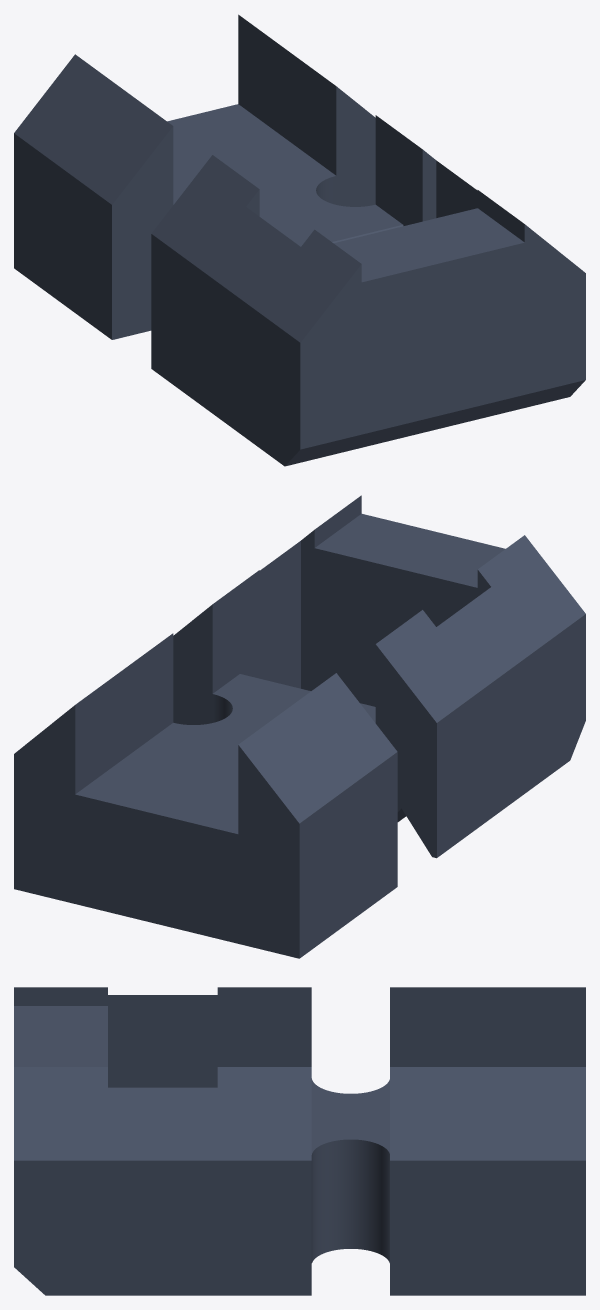
Rendered from wire-plug.glb.
3 renders of one model, top to bottom at view 1: azimuth 30°, elevation 25°; view 2: azimuth 150°, elevation 25°; view 3: azimuth 270°, elevation 25°, orthographic.
Visible parts, largest first — view 1: Wire plug; view 2: Wire plug; view 3: Wire plug.
Boxes of the visible parts, x1,y1,x2,y2 form: Wire plug: (14, 14, 585, 466); Wire plug: (14, 495, 585, 958); Wire plug: (14, 987, 585, 1295).
Size of the model in its own units: 0.0042 by 0.0028 by 0.0073.
